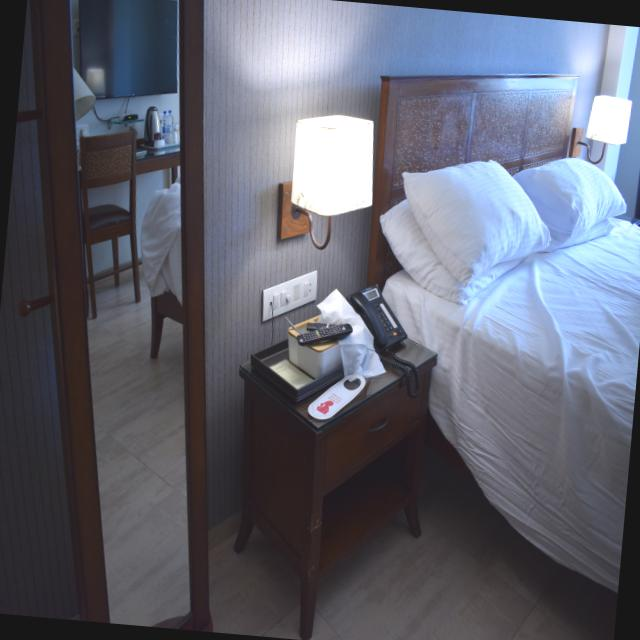mess: (228, 280, 451, 488), (78, 102, 195, 164)
